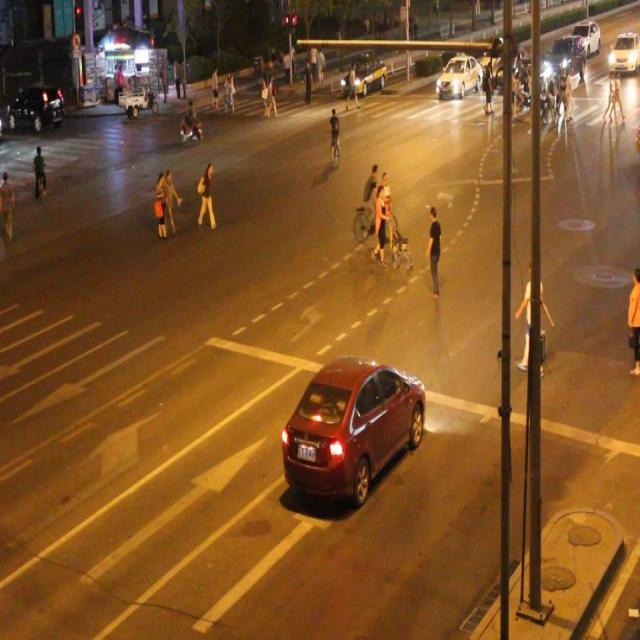car: (281, 356, 425, 504)
